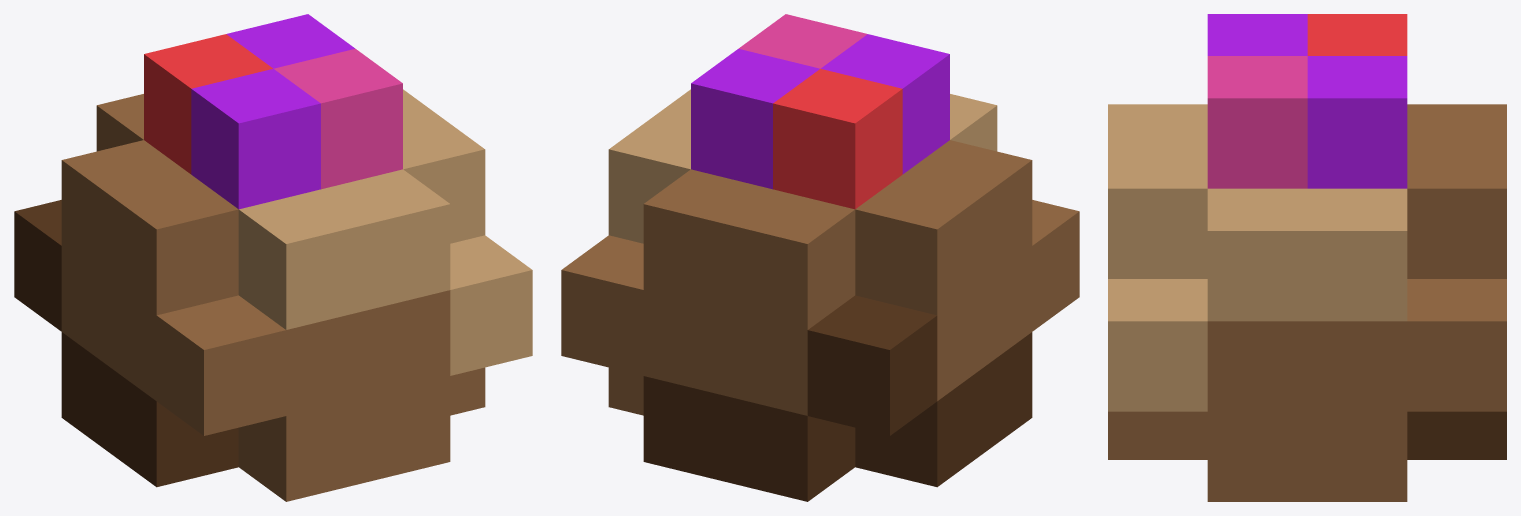
The model's file is Sietecueros_Sergio_Danilo_Palacios_Castillo_fase_1.obj.
The picture shows the model from 3 angles, left to right: view 1: azimuth 30°, elevation 25°; view 2: azimuth 150°, elevation 25°; view 3: azimuth 270°, elevation 25°; orthographic projection. The views are drawn at different scales.
Visible parts, largest first — view 1: Sietecueros_Sergio_Danilo_Palacios_Castillo_fase_1; view 2: Sietecueros_Sergio_Danilo_Palacios_Castillo_fase_1; view 3: Sietecueros_Sergio_Danilo_Palacios_Castillo_fase_1.
Part boxes in pixels (bbox=[...]): Sietecueros_Sergio_Danilo_Palacios_Castillo_fase_1: bbox=[14, 14, 532, 501]; Sietecueros_Sergio_Danilo_Palacios_Castillo_fase_1: bbox=[561, 14, 1079, 501]; Sietecueros_Sergio_Danilo_Palacios_Castillo_fase_1: bbox=[1108, 14, 1506, 501].
Size of the model in its own units: 4 by 4 by 4.
